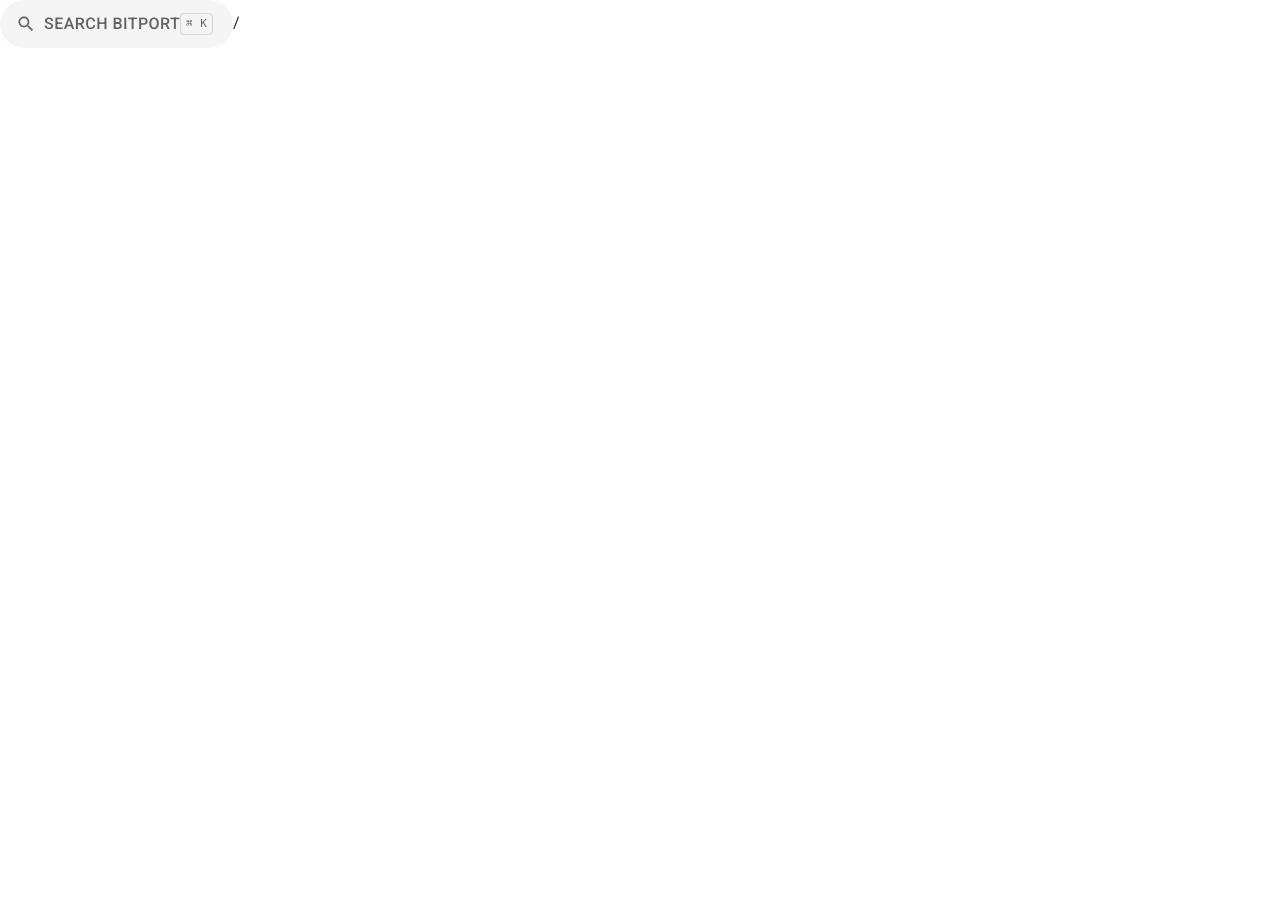
Test: workspace tool search › opens with the keyboard, filters capabilities and navigates
This screenshot has width=1280, height=900.
Press k
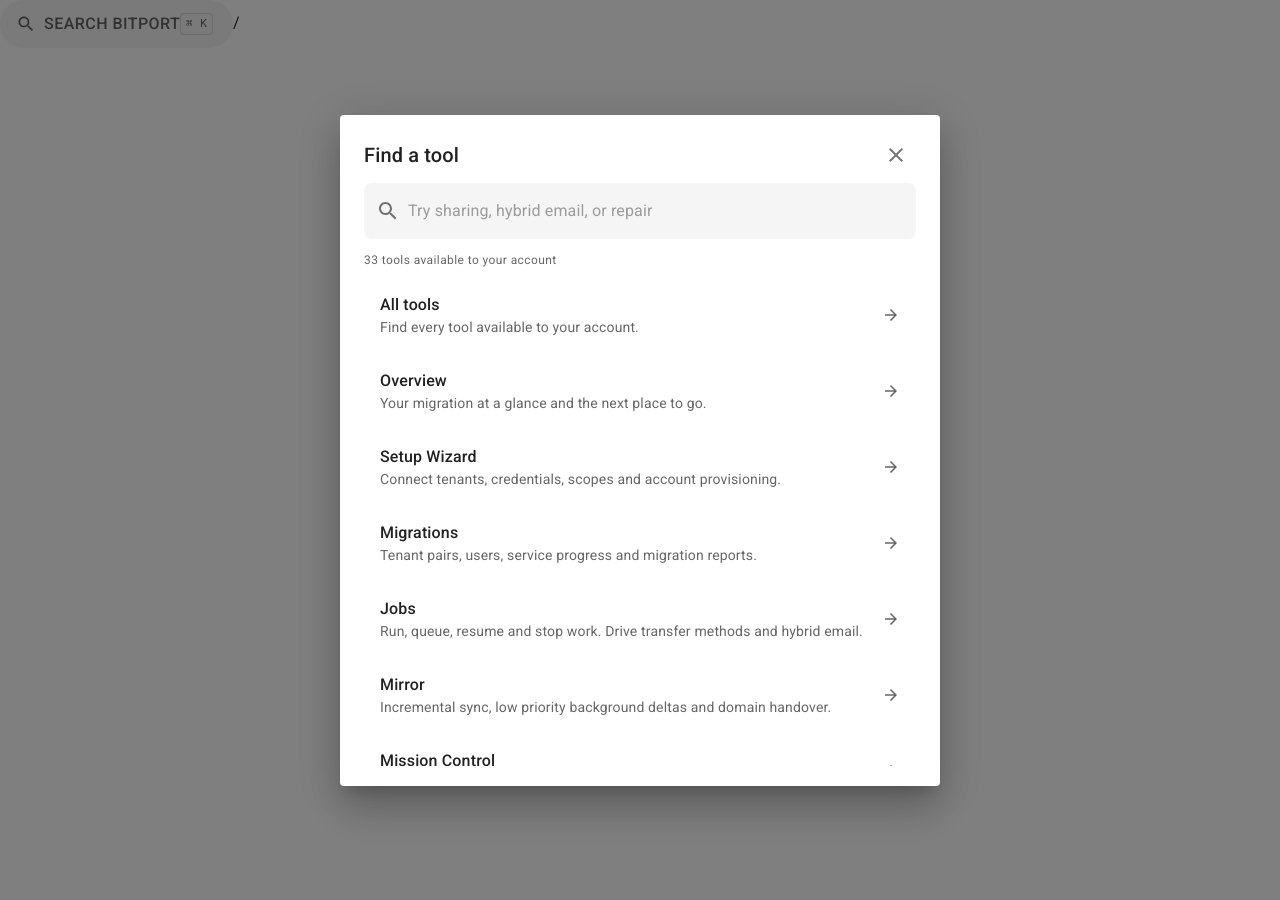
In the field named "Search all tools": (656, 210) [408,194,904,226], type "hybrid email"
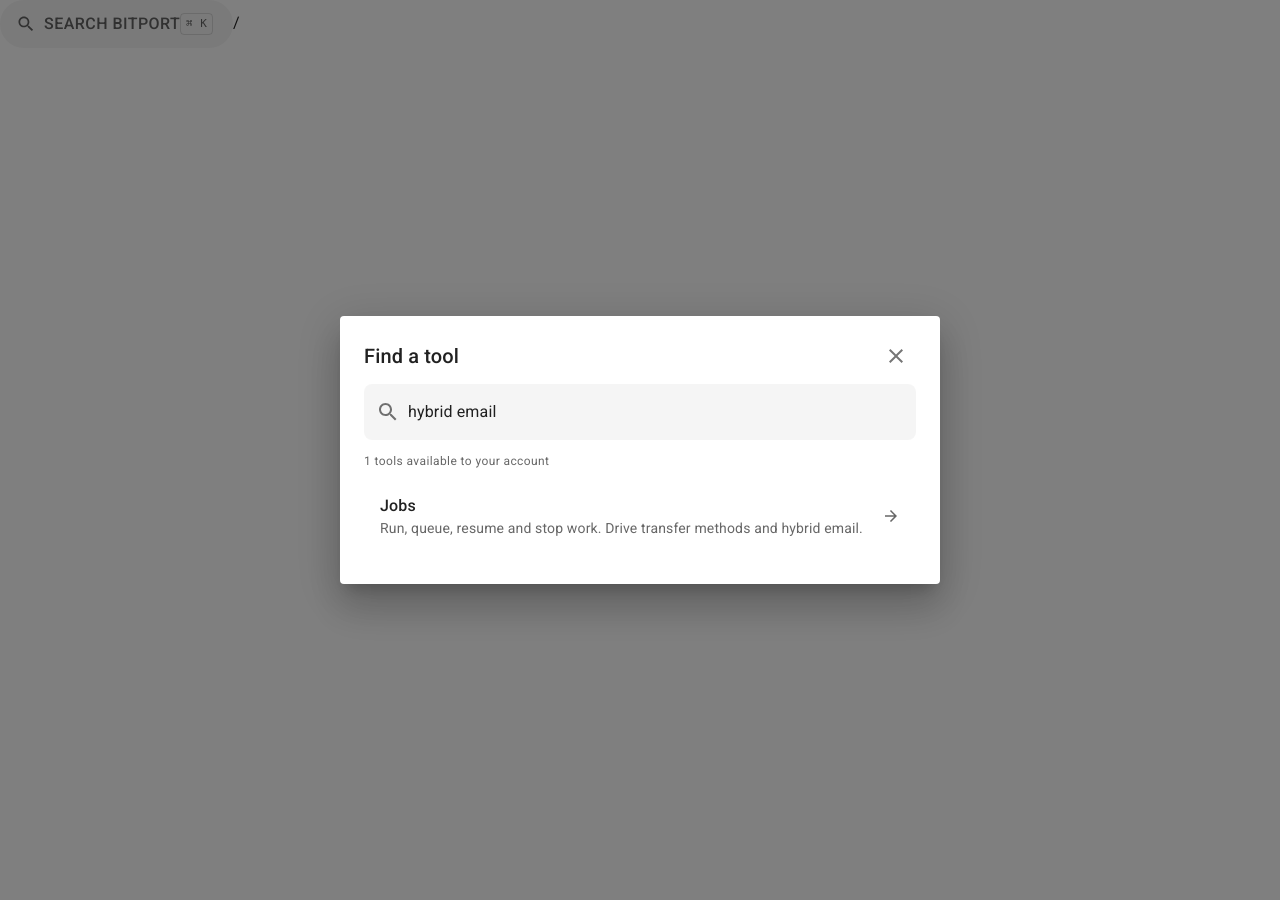
Expected: the text "Jobs" is shown, [380,496,416,515]
Press Enter in the field named "Search all tools", box [408,396,904,428]
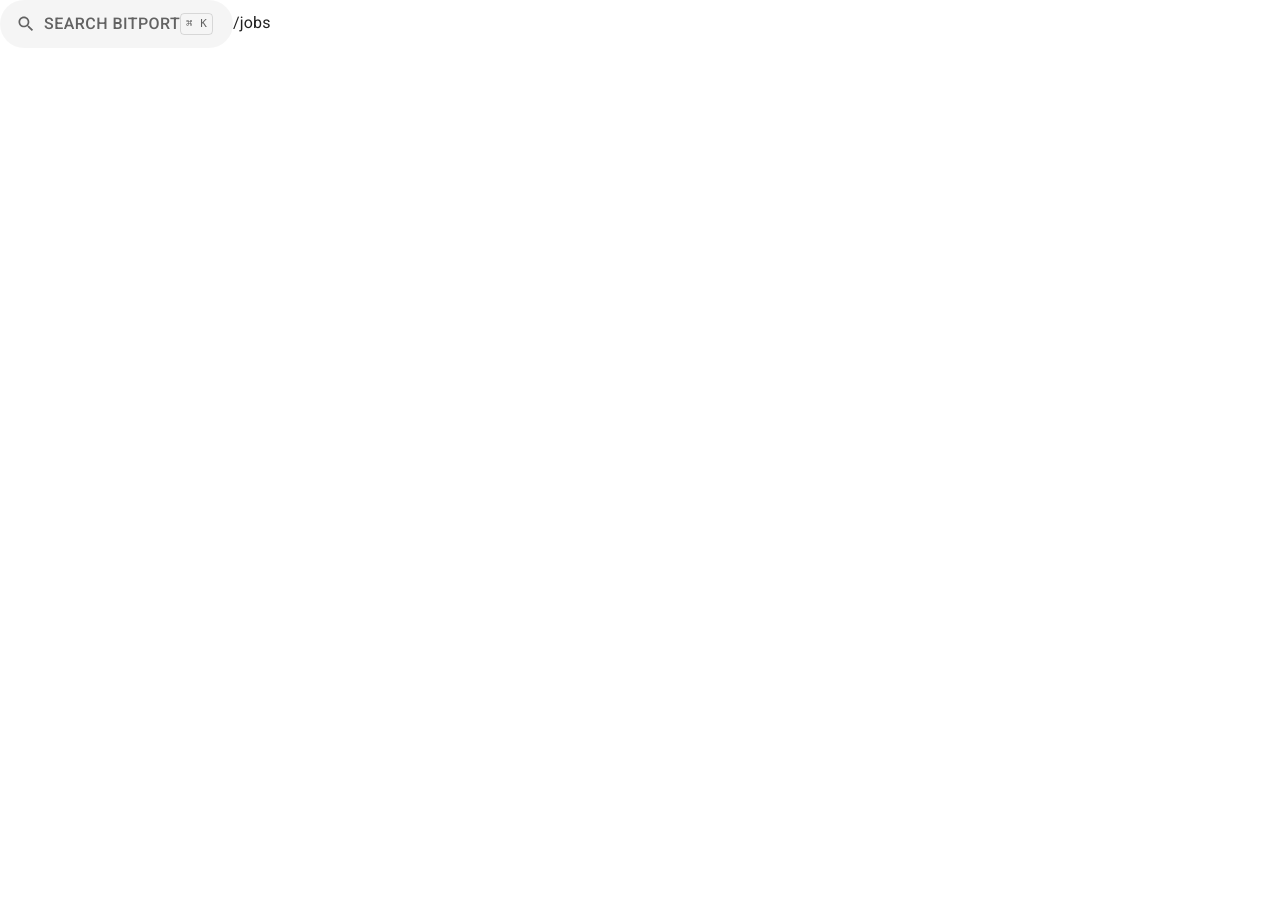
Expected: the text with test id "location" reads "/jobs", [233,13,271,32]
Expected: the dialog is gone
